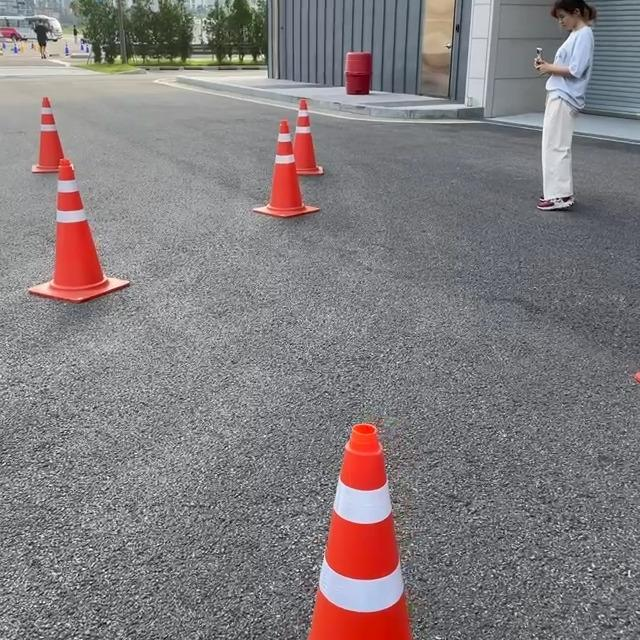fallen_object: (303, 391, 490, 640), (25, 143, 142, 345), (273, 76, 355, 204), (232, 125, 320, 240), (23, 96, 74, 180)
